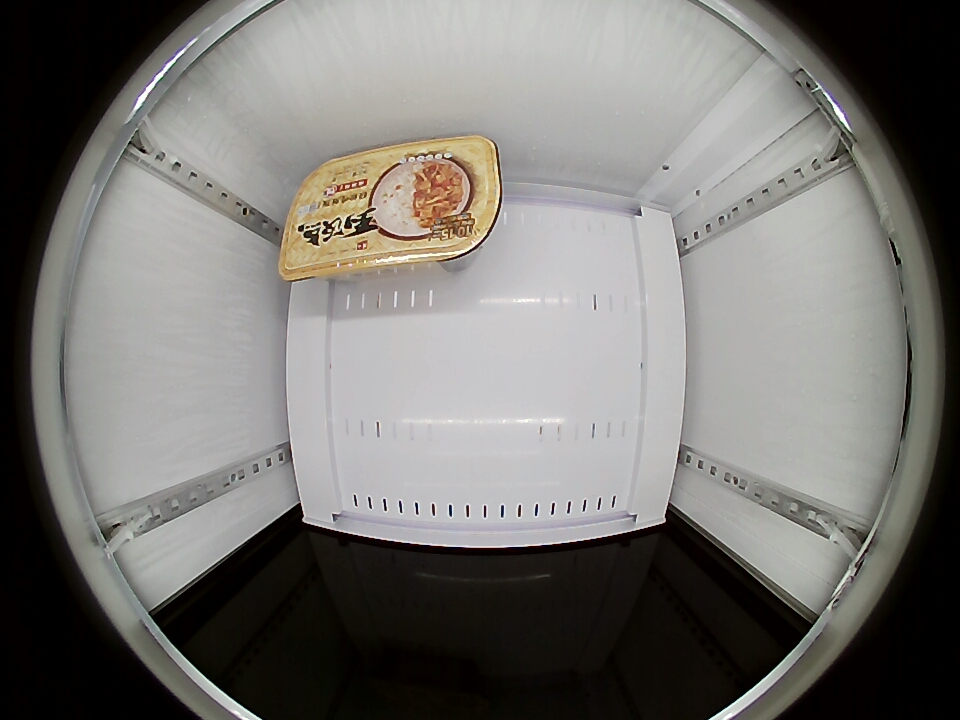daofandian4: (277, 136, 503, 281)
